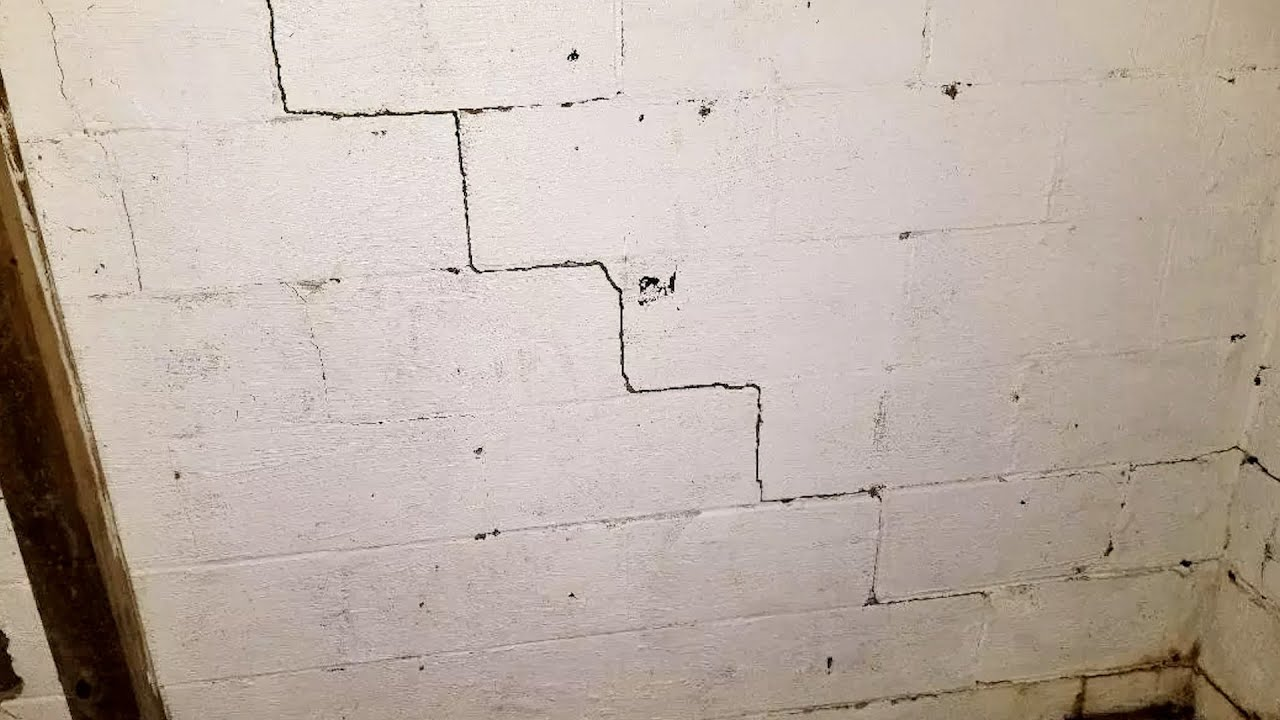crack: (40, 0, 84, 119)
stairstep_crack: (260, 2, 990, 614), (1103, 444, 1279, 593)
